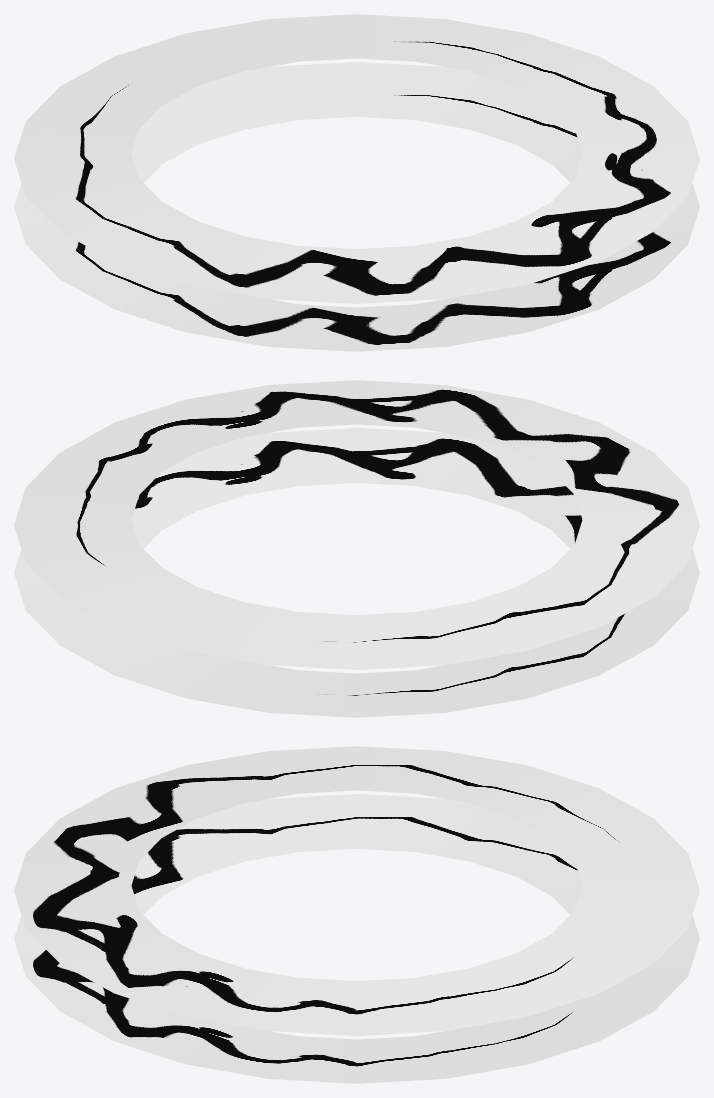
The model's file is HeroSmearLightningLayer.fbx.
3 views of the same model, one above another, from view 1: azimuth 30°, elevation 25°; view 2: azimuth 150°, elevation 25°; view 3: azimuth 270°, elevation 25° (orthographic).
Parts seen in each view (by area): view 1: LayerLightning; view 2: LayerLightning; view 3: LayerLightning.
Boxes of the visible parts, <box> form: LayerLightning: <box>14,14,699,351</box>; LayerLightning: <box>14,380,699,717</box>; LayerLightning: <box>14,746,699,1083</box>.
Size of the model in its own units: 835 by 78.53 by 835.
Materials: 1 (1 with a texture image).
